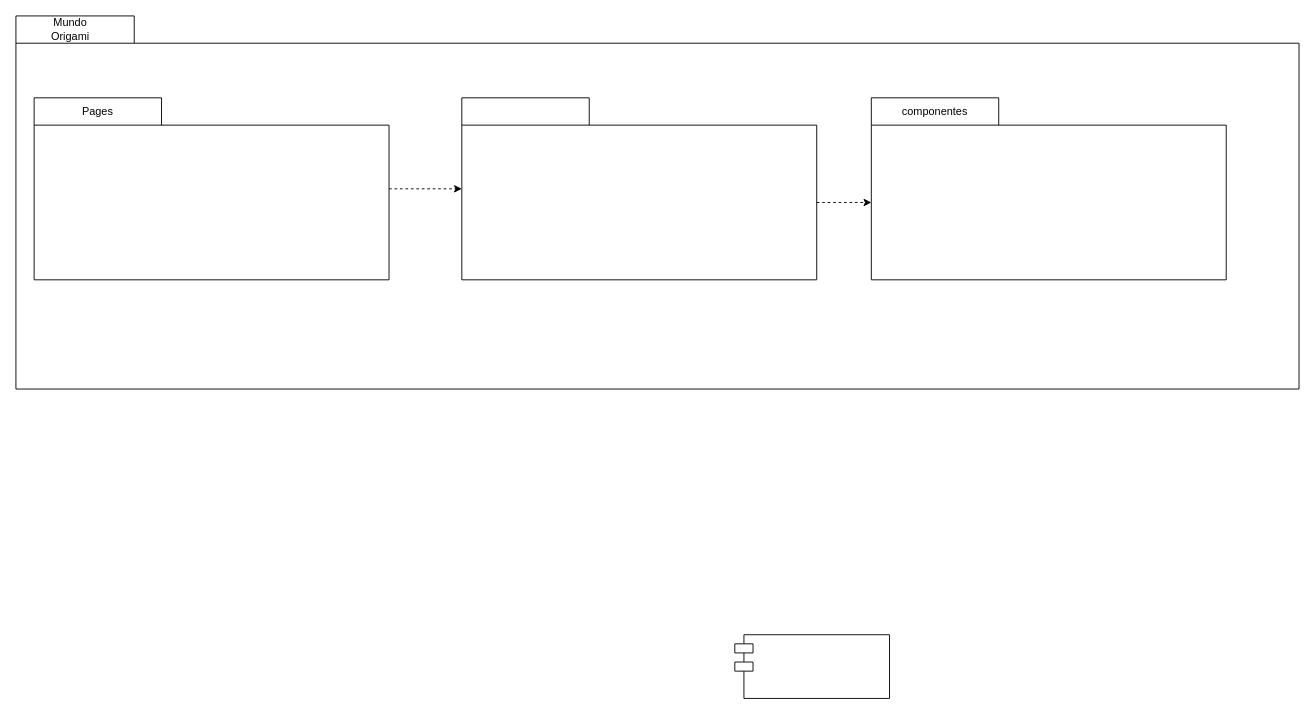
The diagram is 1315 pixels wide and 714 high, and some of its shapes have lost their labels. The centre of each missing label's shape, as x and y in pixels:
"Module" goes at (812,666).
"router" goes at (639,188).
